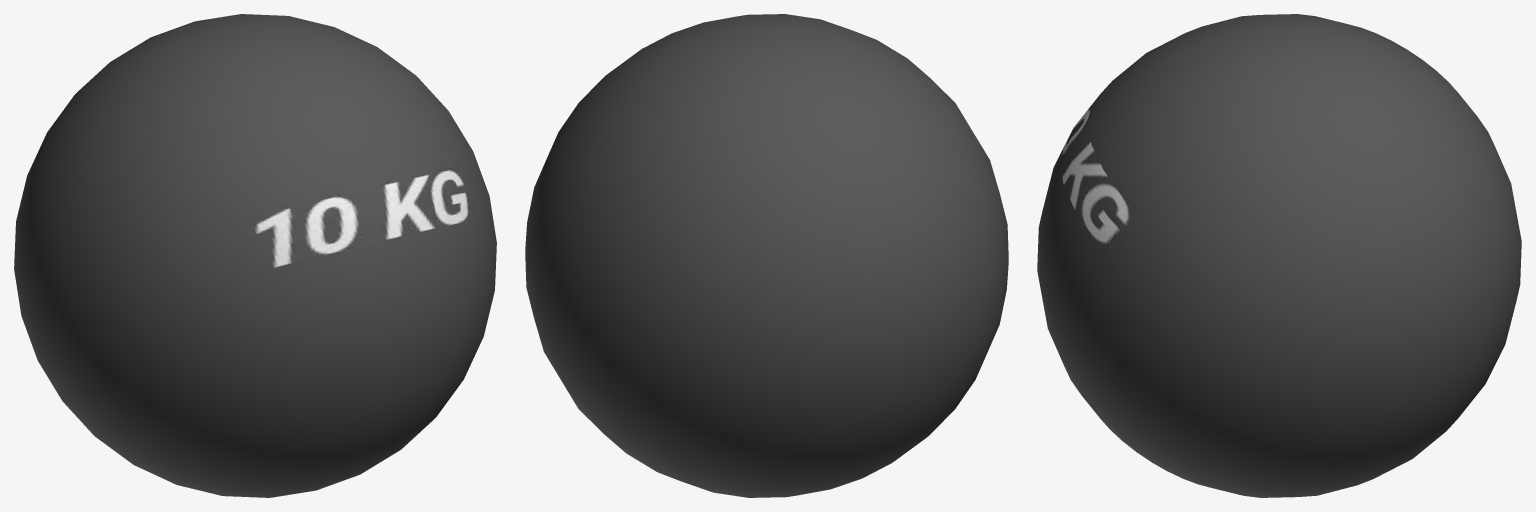
Rendered from CannonBallHint-transformed.glb.
The picture shows the model from 3 angles, left to right: view 1: azimuth 30°, elevation 25°; view 2: azimuth 150°, elevation 25°; view 3: azimuth 270°, elevation 25°; orthographic projection.
Parts seen in each view (by area): view 1: CannonBallHint; view 2: CannonBallHint; view 3: CannonBallHint.
Boxes of the visible parts, <box> form: CannonBallHint: <box>14,14,496,497</box>; CannonBallHint: <box>525,14,1008,497</box>; CannonBallHint: <box>1037,14,1521,497</box>.
Bounding box in the file's own units: 0.6678 × 0.6663 × 0.6663.
Materials: 1 (1 with a texture image).
